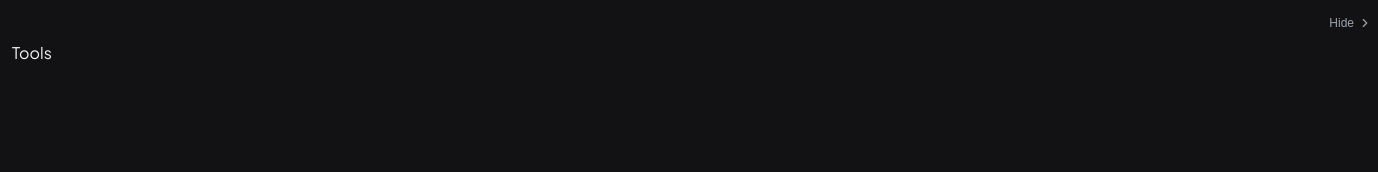
it: rail tolerates invalid storage and write failure without losing contents
Click the button with aria-label "Collapse side panel": (1351, 23) [1323, 12, 1377, 34]
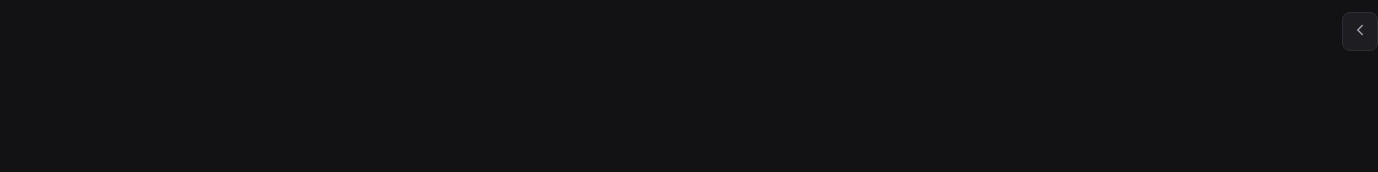
Click the button named "Expand side panel": (1360, 32) [1342, 12, 1377, 51]
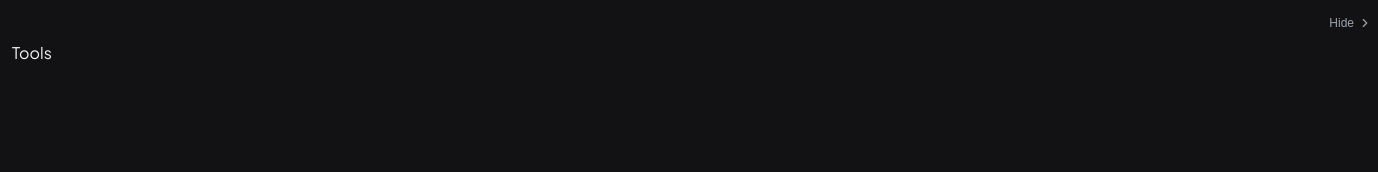
Expected: the text "Tools" is shown, [12, 42, 52, 63]
